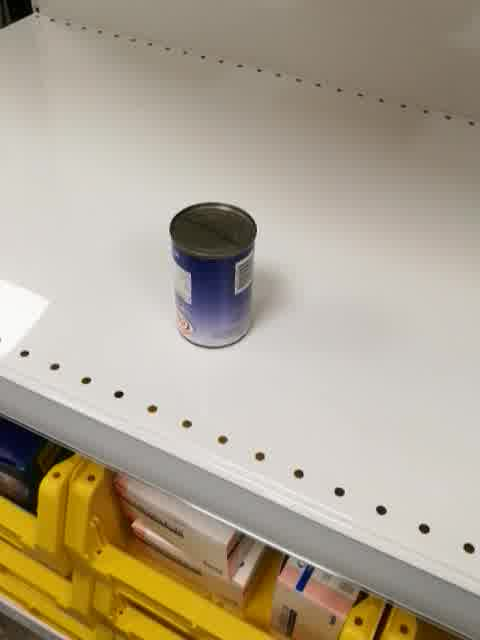sardine: (167, 201, 257, 350)
